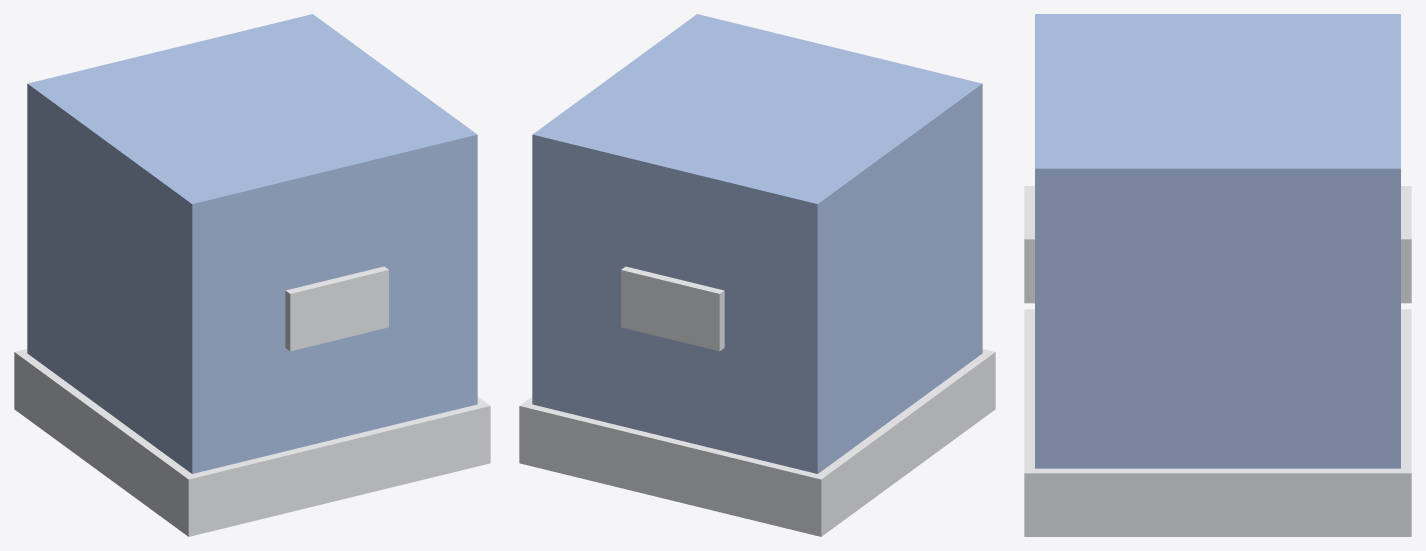
The model's file is pijama_canela.glb.
3 views of the same model, side by side, from view 1: azimuth 30°, elevation 25°; view 2: azimuth 150°, elevation 25°; view 3: azimuth 270°, elevation 25° (orthographic). The views are drawn at different scales.
Parts seen in each view (by area): view 1: pijama_canela; view 2: pijama_canela; view 3: pijama_canela.
Boxes of the visible parts, x1,y1,x2,y2 form: pijama_canela: (14, 14, 490, 536); pijama_canela: (519, 14, 995, 536); pijama_canela: (1024, 14, 1411, 536).
Bounding box in the file's own units: 0.275 × 0.285 × 0.275.
